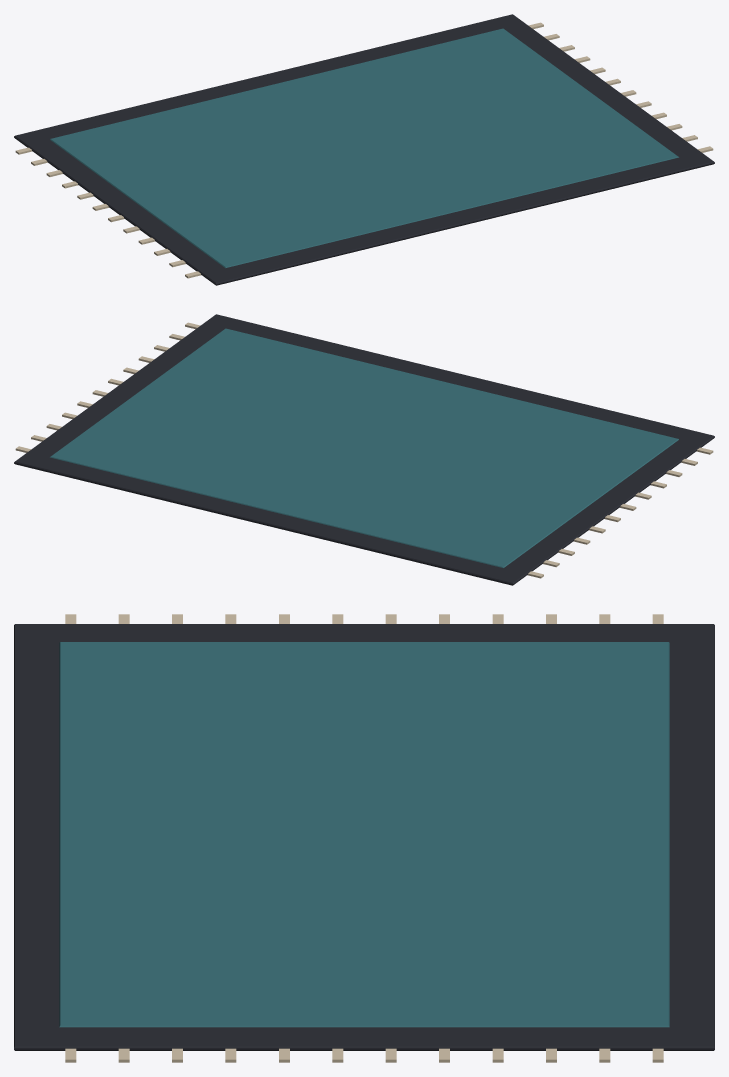
File: FN_Rug_Rect.glb
3 views of the same model, one above another, from view 1: azimuth 30°, elevation 25°; view 2: azimuth 150°, elevation 25°; view 3: azimuth 270°, elevation 25° (orthographic). The views are drawn at different scales.
Parts seen in each view (by area): view 1: FN_Rug_Rect; view 2: FN_Rug_Rect; view 3: FN_Rug_Rect.
Boxes of the visible parts, box(x1,y1,x2,y2) form: FN_Rug_Rect: box(14, 14, 714, 285); FN_Rug_Rect: box(14, 314, 714, 585); FN_Rug_Rect: box(14, 614, 714, 1062).
Bounding box in the file's own units: 2.1 × 0.014 × 1.4.
1 material, 1 textured.
